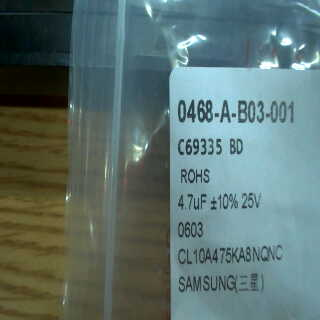4.7uF: (175, 190, 209, 217)
